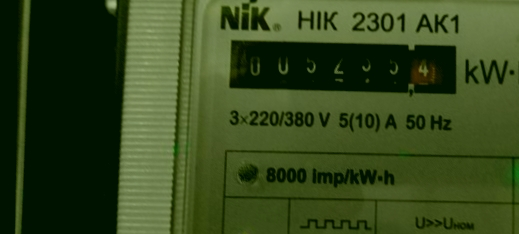0: (247, 51, 263, 77), (276, 49, 290, 74)
2: (331, 49, 345, 74)
3: (359, 47, 373, 72)
4: (416, 51, 431, 78)
5: (303, 48, 318, 75), (386, 48, 401, 75)
screen: (220, 30, 468, 101)
